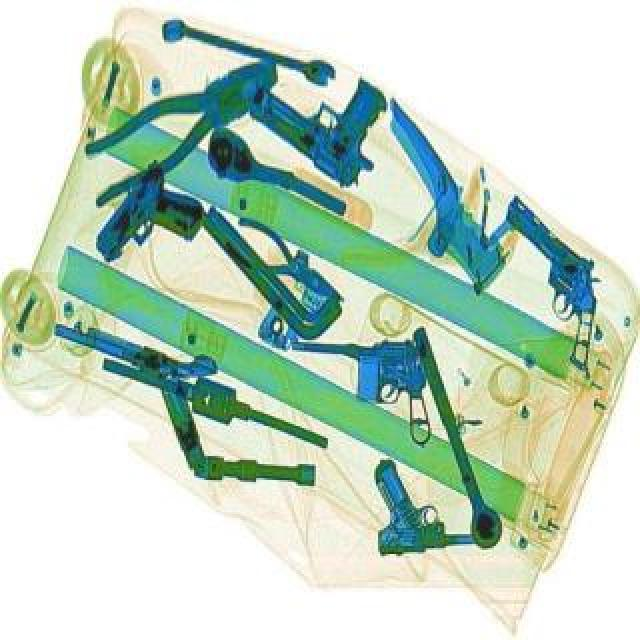gun: (452, 192, 640, 358), (242, 36, 422, 194), (86, 158, 222, 286), (288, 334, 436, 440), (50, 304, 222, 392), (376, 452, 488, 552)
scissors: (160, 12, 340, 90)
wrench: (64, 40, 292, 210), (220, 210, 362, 318)
